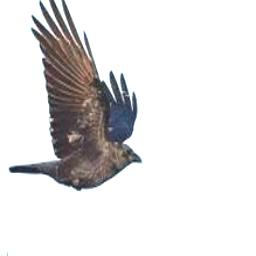Crow: (9, 0, 141, 190)
